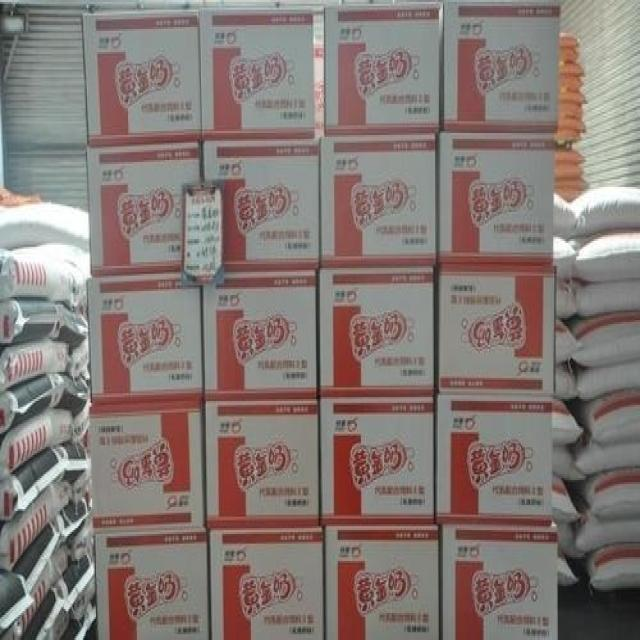box: (434, 263, 556, 396), (202, 135, 321, 271), (81, 14, 202, 146), (435, 390, 552, 526), (320, 132, 436, 268), (435, 132, 553, 264), (319, 264, 436, 397), (88, 142, 204, 276), (319, 394, 435, 527), (205, 395, 320, 528), (202, 268, 319, 398), (87, 276, 205, 404), (200, 11, 316, 141), (90, 399, 205, 530), (439, 9, 561, 132), (324, 8, 440, 133), (439, 524, 558, 638), (324, 524, 439, 638), (209, 527, 325, 638), (93, 528, 210, 638)
